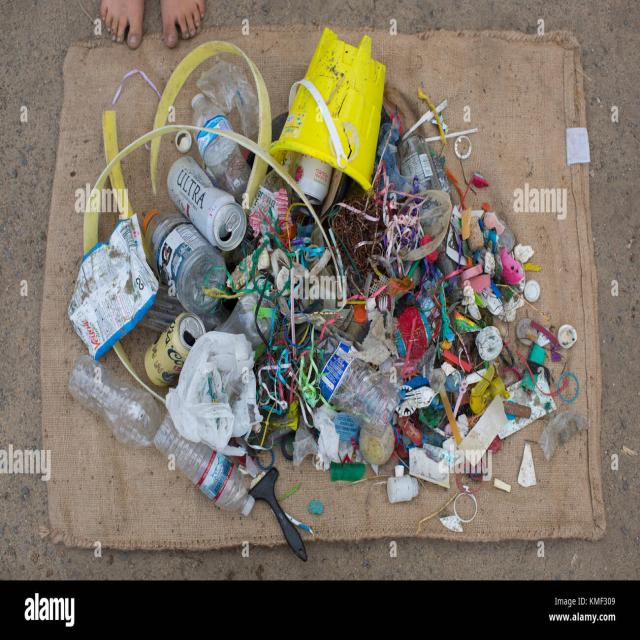glass: (158, 172, 238, 308)
plastic: (153, 340, 246, 473), (306, 327, 405, 420)
